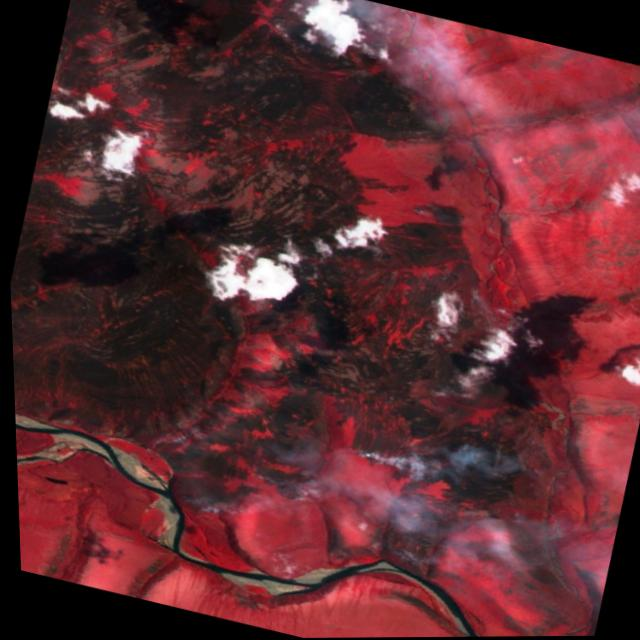fire: (101, 287, 581, 616), (243, 0, 502, 127)
